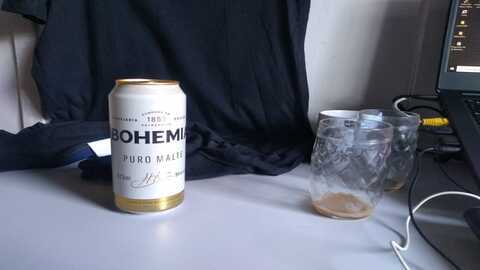bohemia: (106, 74, 188, 216)
